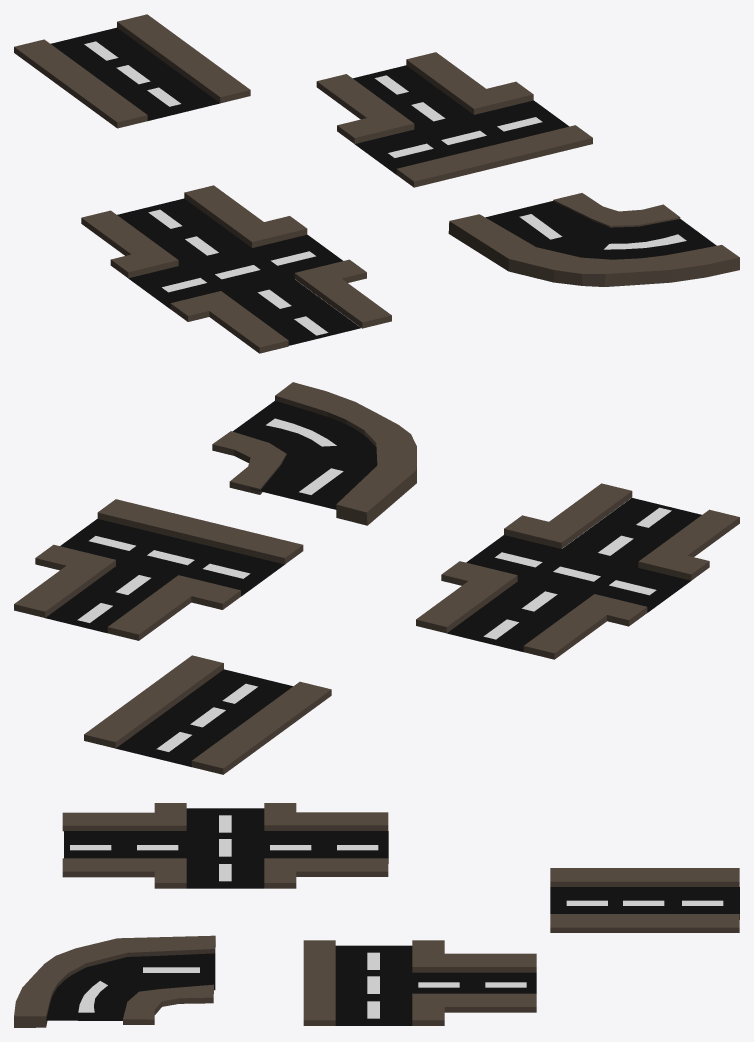
File: ruas.fbx
The picture shows the model from 3 angles, top to bottom: view 1: azimuth 30°, elevation 25°; view 2: azimuth 150°, elevation 25°; view 3: azimuth 270°, elevation 25°; orthographic projection. The views are drawn at different scales.
Visible parts, largest first — view 1: Plane.017, Plane.010, Cube.003, Cube.004, Plane.004, Cube.007, Cube.006, Plane.001, Cube.005, Cube.001, Cube, Cube.002 (+1 smaller); view 2: Plane.017, Plane.010, Plane.004, Cube.004, Cube.003, Cube.007, Cube.006, Plane.001, Cube.005, Cube.001, Cube, Cube.002; view 3: Plane.017, Plane.010, Plane.004, Cube.004, Cube.006, Cube.007, Cube.003, Plane.001, Cube, Cube.001, Cube.005, Cube.002 (+1 smaller).
Part boxes in pixels (box(x1,y1,x2,y2)): Plane.017: box(117, 198, 360, 345); Plane.010: box(353, 65, 569, 174); Cube.003: box(448, 214, 739, 286); Cube.004: box(316, 52, 533, 143); Plane.004: box(485, 201, 716, 259); Cube.007: box(81, 185, 307, 278); Cube.006: box(170, 259, 391, 353); Plane.001: box(50, 27, 219, 121); Cube.005: box(396, 125, 592, 187); Cube.001: box(14, 39, 147, 128); Cube: box(117, 14, 250, 103); Cube.002: box(553, 193, 680, 227); Plane.017: box(447, 498, 701, 651); Plane.010: box(45, 519, 285, 633); Plane.004: box(232, 401, 377, 509); Cube.004: box(14, 544, 240, 640); Cube.003: box(275, 382, 416, 525); Cube.007: box(416, 561, 647, 659); Cube.006: box(504, 483, 739, 580); Plane.001: box(115, 669, 292, 767); Cube.005: box(97, 499, 303, 564); Cube.001: box(191, 681, 331, 774); Cube: box(84, 655, 223, 748); Cube.002: box(212, 431, 286, 494); Plane.017: box(64, 808, 388, 888); Plane.010: box(335, 945, 536, 1025); Plane.004: box(46, 953, 215, 1020); Cube.004: box(412, 940, 536, 1025); Cube.006: box(62, 803, 186, 888); Cube.007: box(264, 803, 388, 888); Cube.003: box(14, 935, 215, 1027); Plane.001: box(550, 887, 739, 919); Cube: box(550, 914, 739, 932); Cube.001: box(550, 868, 739, 886); Cube.005: box(303, 940, 335, 1025); Cube.002: box(123, 984, 213, 1024).
Bounding box in the file's own units: 1317 × 35.99 × 1858.
